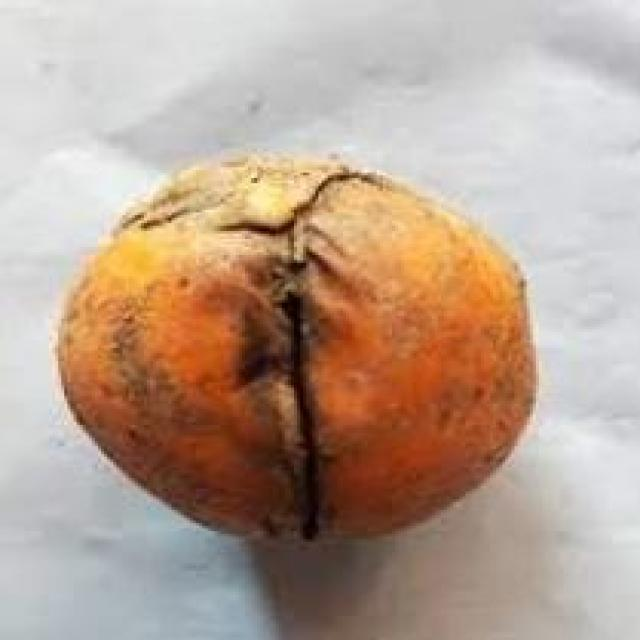damaged: (55, 151, 542, 544)
